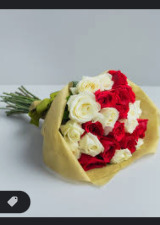RedRose: (84, 118, 110, 142), (108, 69, 135, 89), (115, 87, 139, 108), (98, 90, 121, 110), (84, 154, 110, 171), (133, 114, 149, 137), (105, 122, 123, 142), (110, 104, 131, 121), (126, 134, 135, 153)
